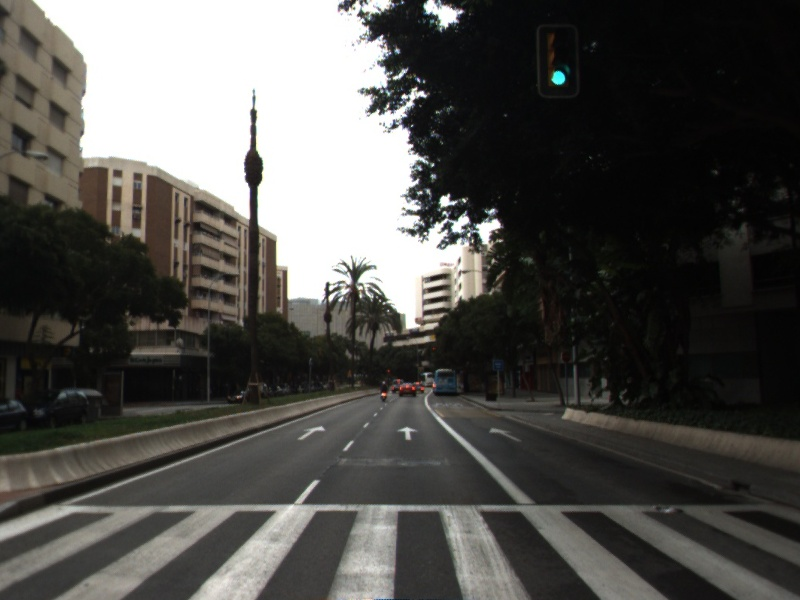STRAIGHT: (487, 425, 524, 444), (295, 424, 327, 442), (395, 424, 420, 442)
